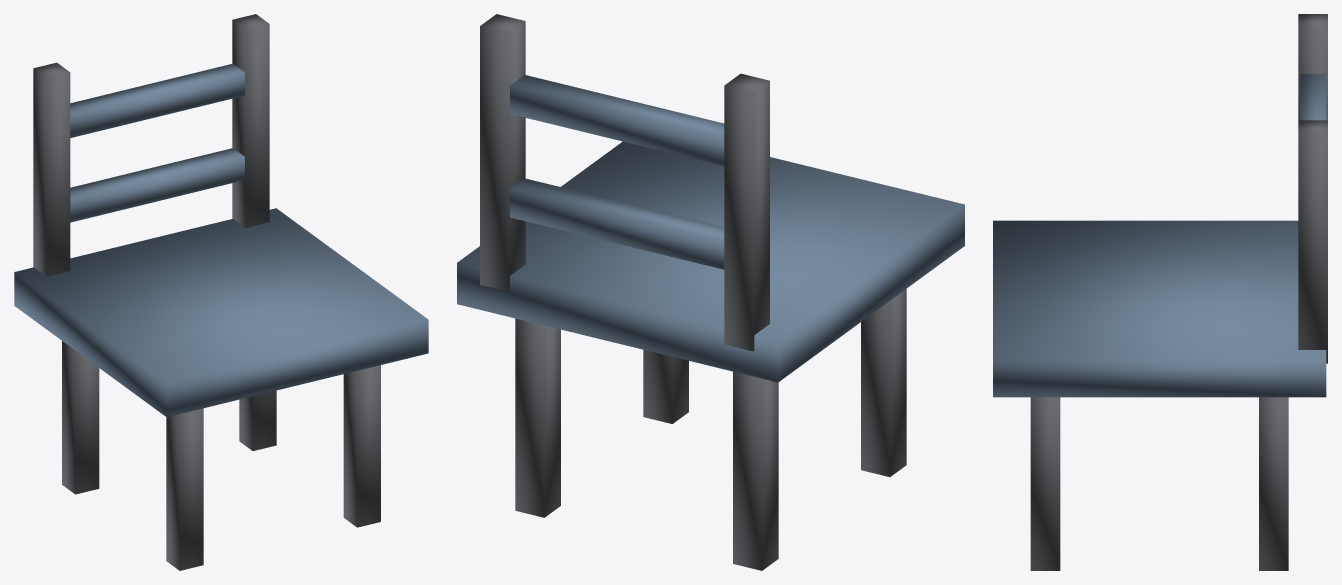
The model's file is station_bench__squat.glb.
3 views of the same model, side by side, from view 1: azimuth 30°, elevation 25°; view 2: azimuth 150°, elevation 25°; view 3: azimuth 270°, elevation 25° (orthographic). The views are drawn at different scales.
Parts seen in each view (by area): view 1: world; view 2: world; view 3: world.
Boxes of the visible parts, x1=… form: world: x1=14, y1=14, x2=428, y2=570; world: x1=457, y1=14, x2=964, y2=570; world: x1=993, y1=14, x2=1327, y2=570.
Bounding box in the file's own units: 0.5455 × 0.8076 × 0.552.
